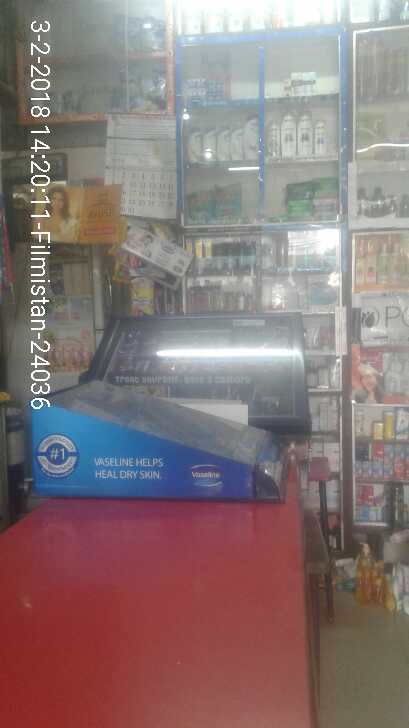vicks: (184, 74, 226, 101)
